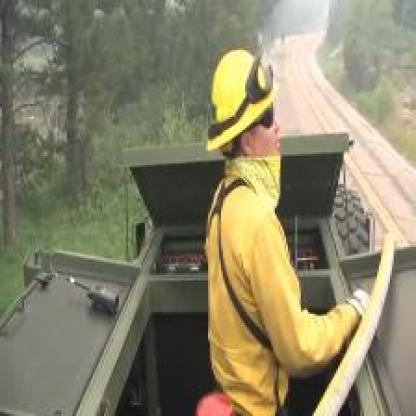other: (182, 49, 379, 407)
